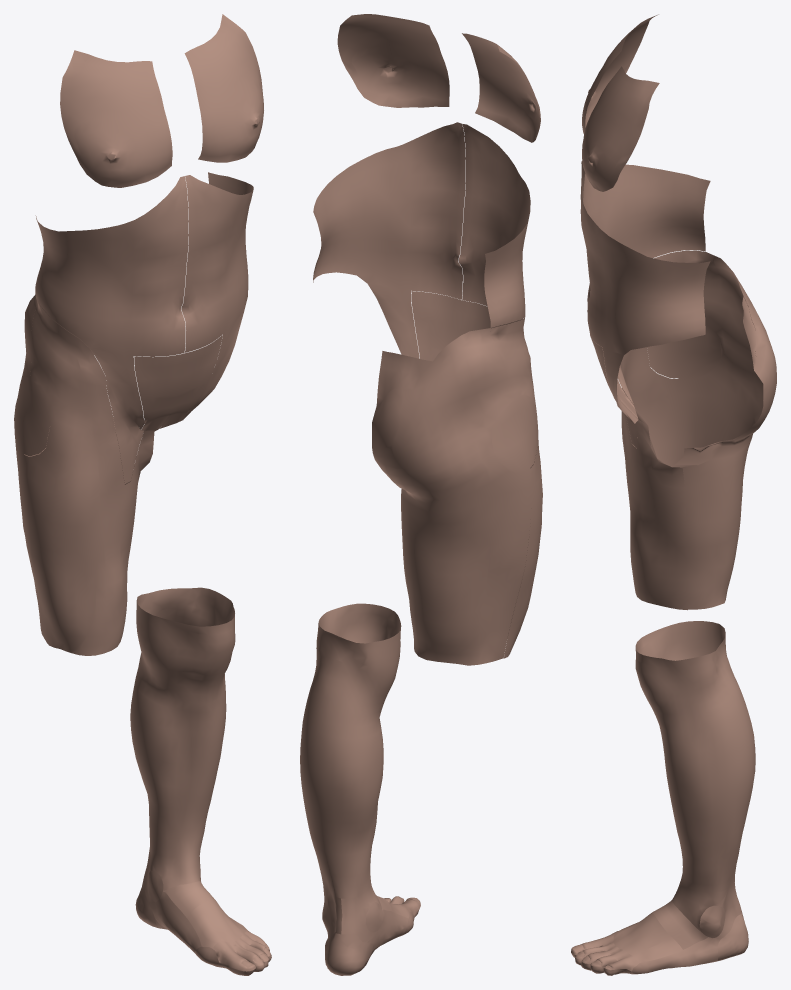
Rendered from alaa1.glb.
3 views of the same model, side by side, from view 1: azimuth 30°, elevation 25°; view 2: azimuth 150°, elevation 25°; view 3: azimuth 270°, elevation 25° (orthographic). The views are drawn at different scales.
Visible parts, largest first — view 1: Anterior region of thigh.r, Proximal transverse arch of foot.l, Hypogastric region.r, Hypogastric region.l, Pectoral region.r, Pectoral region.l; view 2: Anterior region of thigh.r, Proximal transverse arch of foot.l, Hypogastric region.l, Hypogastric region.r, Pectoral region.l, Pectoral region.r; view 3: Anterior region of thigh.r, Proximal transverse arch of foot.l, Hypogastric region.l, Hypogastric region.r, Pectoral region.l, Pectoral region.r.
Boxes of the visible parts, x1,y1,x2,y2 form: Anterior region of thigh.r: (14,294,158,655); Proximal transverse arch of foot.l: (130,587,271,975); Hypogastric region.r: (35,176,188,430); Hypogastric region.l: (160,172,253,428); Pectoral region.r: (60,50,172,187); Pectoral region.l: (184,14,263,162); Anterior region of thigh.r: (372,317,542,665); Proximal transverse arch of foot.l: (300,603,420,975); Hypogastric region.l: (313,122,465,361); Hypogastric region.r: (456,124,530,338); Pectoral region.l: (337,14,449,107); Pectoral region.r: (462,33,540,142); Anterior region of thigh.r: (619,250,776,610); Proximal transverse arch of foot.l: (571,621,755,975); Hypogastric region.l: (580,173,710,423); Hypogastric region.r: (580,161,710,418); Pectoral region.l: (582,66,659,191); Pectoral region.r: (582,14,658,133).
Bounding box in the file's own units: 0.3384 × 1.4 × 0.2947.
Materials: 7 (7 with a texture image).
